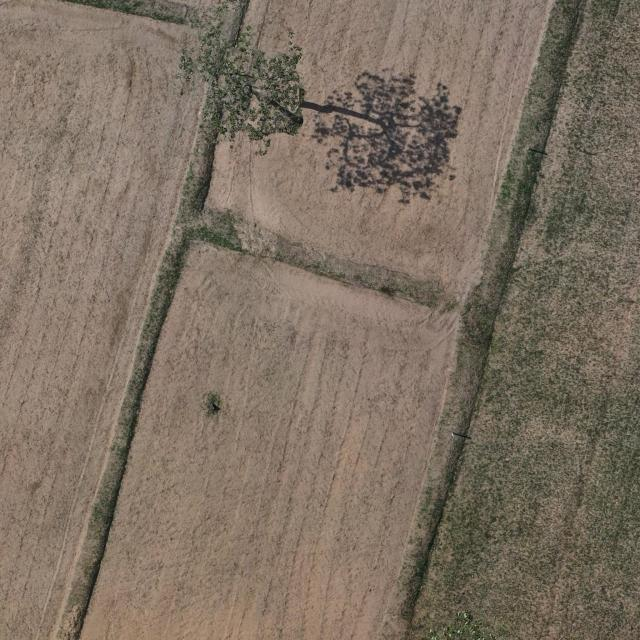Tree: (175, 21, 308, 160)
